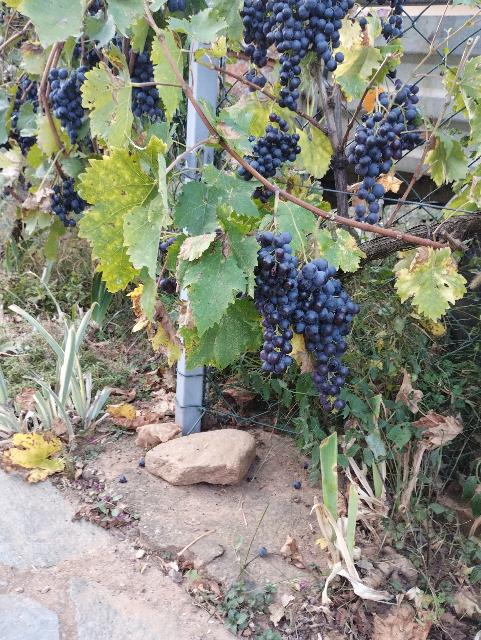grapes: (294, 259, 360, 412), (350, 80, 419, 199), (255, 231, 300, 374), (245, 114, 301, 178)
